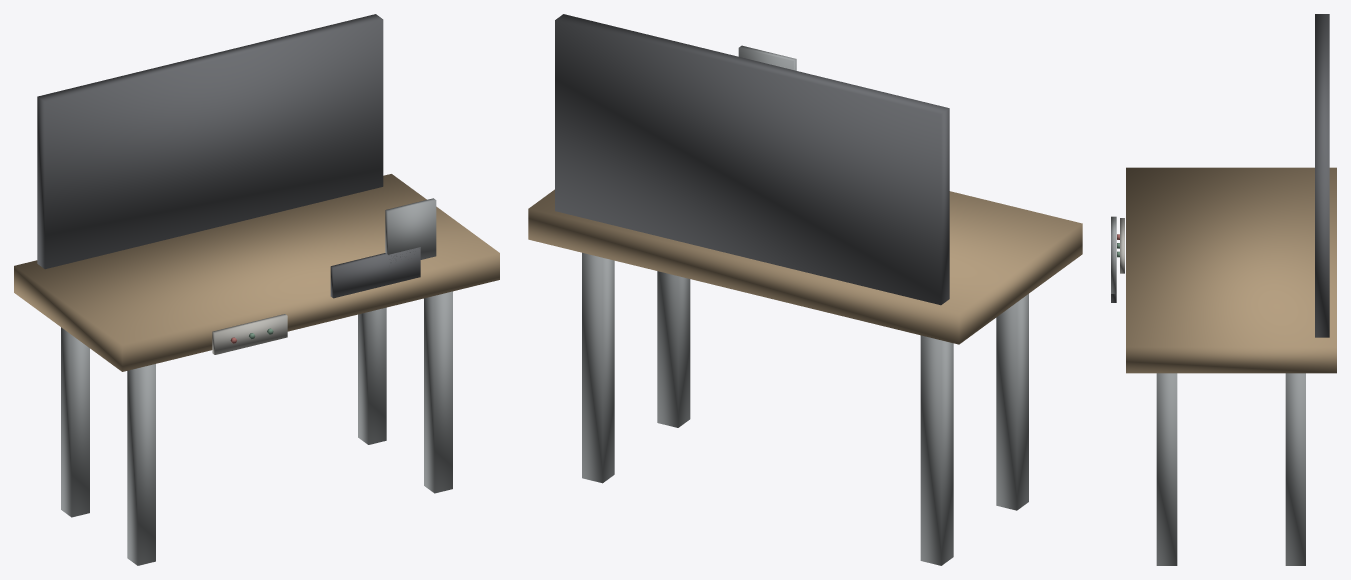
The model's file is basement_workbench__weathered.glb.
3 views of the same model, side by side, from view 1: azimuth 30°, elevation 25°; view 2: azimuth 150°, elevation 25°; view 3: azimuth 270°, elevation 25° (orthographic). The views are drawn at different scales.
Visible parts, largest first — view 1: world; view 2: world; view 3: world.
Boxes of the visible parts, x1,y1,x2,y2 form: world: [14, 14, 499, 565]; world: [528, 14, 1082, 565]; world: [1111, 14, 1336, 565].
Bounding box in the file's own units: 1.45 × 1.49 × 0.7709.
